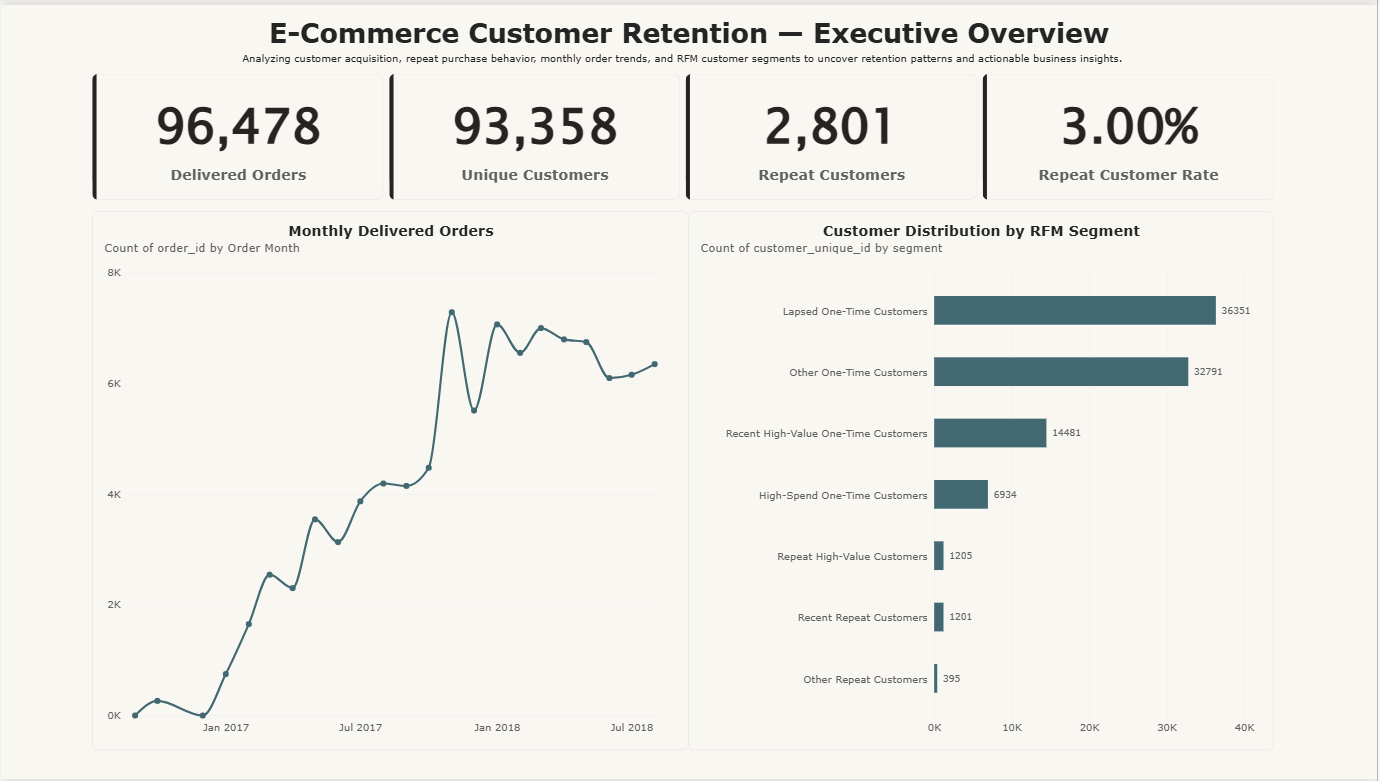

Layout of this report page (visuals, bound fields, positions):
{"tool":"powerbi","page":{"name":"Executive Overview","canvas":[1920,1080],"ordinal":0},"visuals":[{"type":"cardVisual","fields":{"Data":["delivered_orders.Delivered Orders","delivered_orders.Unique Customers","customer_purchase_summary.Repeat Customers","customer_purchase_summary.Repeat Customer Rate"]},"box":[128,96,1648,176],"z":0},{"type":"lineChart","title":"Monthly Delivered Orders","fields":{"Y":["Count(delivered_orders.order_id)"],"Category":["delivered_orders.Order Month"]},"box":[128,288,832,752],"z":1000},{"type":"clusteredBarChart","title":"Customer Distribution by RFM Segment","fields":{"Category":["rfm_customer_segments.segment"],"Y":["Count(rfm_customer_segments.customer_unique_id)"]},"box":[960,288,816,752],"z":2000},{"type":"textbox","box":[368,16,1184,48],"z":3000},{"type":"textbox","box":[336,64,1232,32],"z":4000}]}

Visuals, with their boxes in screenshot pixels (x1, y1, x2, y2), scaled from the page's 1920x1080 canvas onto the 1380x781 screenshot:
cardVisual - delivered_orders.Delivered Orders x delivered_orders.Unique Customers: 92,69,1276,197
"Monthly Delivered Orders" lineChart: 92,208,690,752
"Customer Distribution by RFM Segment" clusteredBarChart: 690,208,1276,752
textbox: 264,12,1116,46
textbox: 242,46,1127,69
